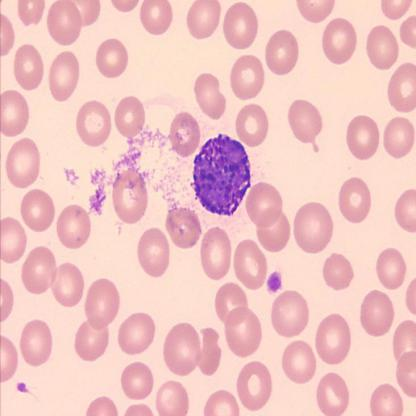Basophil: (190, 130, 252, 219)
